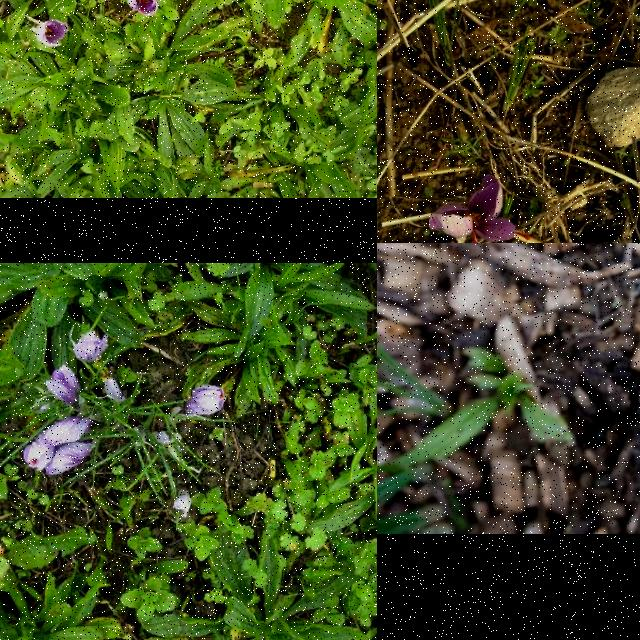flower: (428, 174, 532, 243), (44, 364, 82, 408), (182, 384, 228, 416), (74, 332, 110, 364), (37, 19, 69, 47), (104, 375, 126, 403), (128, 0, 160, 16), (173, 494, 193, 518)
overlap: (23, 415, 95, 477)
